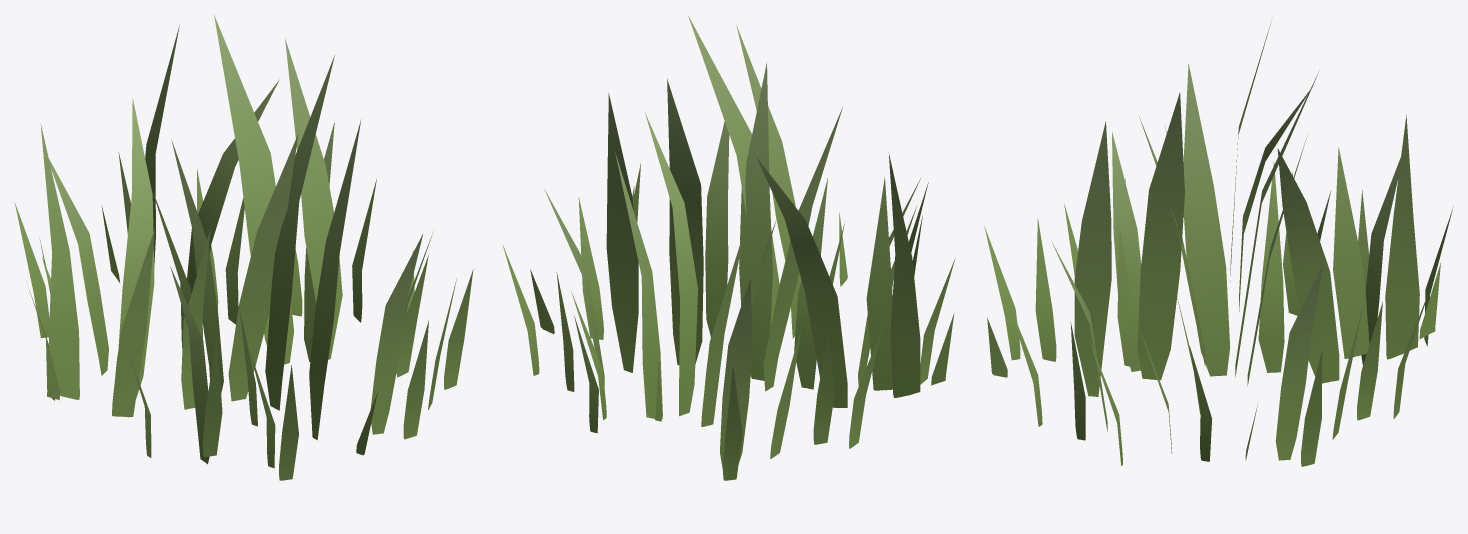
File: Grass03.fbx
The picture shows the model from 3 angles, left to right: view 1: azimuth 30°, elevation 25°; view 2: azimuth 150°, elevation 25°; view 3: azimuth 270°, elevation 25°; orthographic projection.
Parts seen in each view (by area): view 1: Grass03_LOD0; view 2: Grass03_LOD0; view 3: Grass03_LOD0.
Boxes of the visible parts, x1,y1,x2,y2 form: Grass03_LOD0: (14, 15, 473, 480); Grass03_LOD0: (502, 15, 955, 480); Grass03_LOD0: (984, 23, 1453, 466).
Size of what is drawn, in the model's own units: 127 by 120 by 132.
